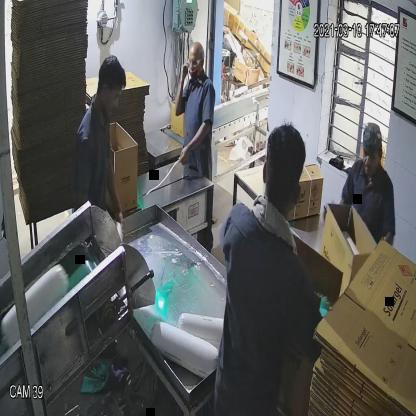no_glove: (174, 107, 214, 169), (101, 139, 126, 230), (165, 58, 194, 122)
